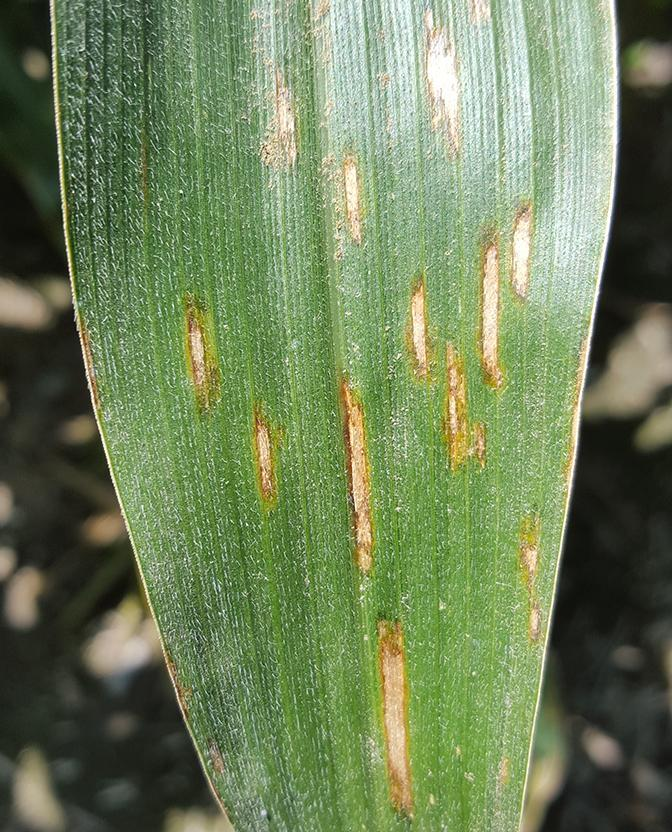Corn_Blight: (312, 362, 416, 824), (141, 256, 293, 524), (409, 221, 530, 498), (412, 8, 485, 159), (313, 143, 388, 286)
